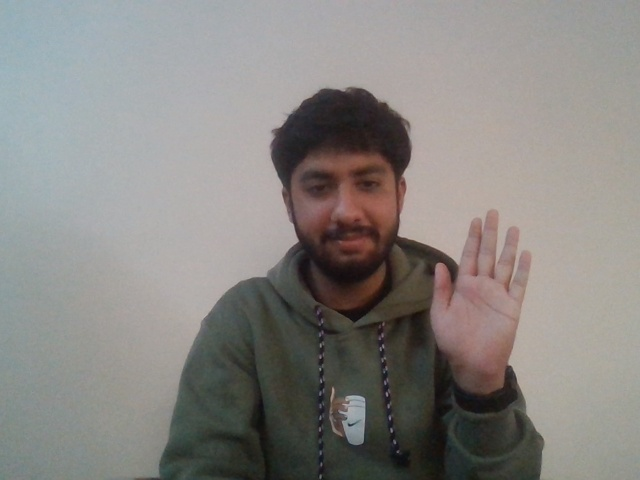Hello: (416, 211, 544, 371)
